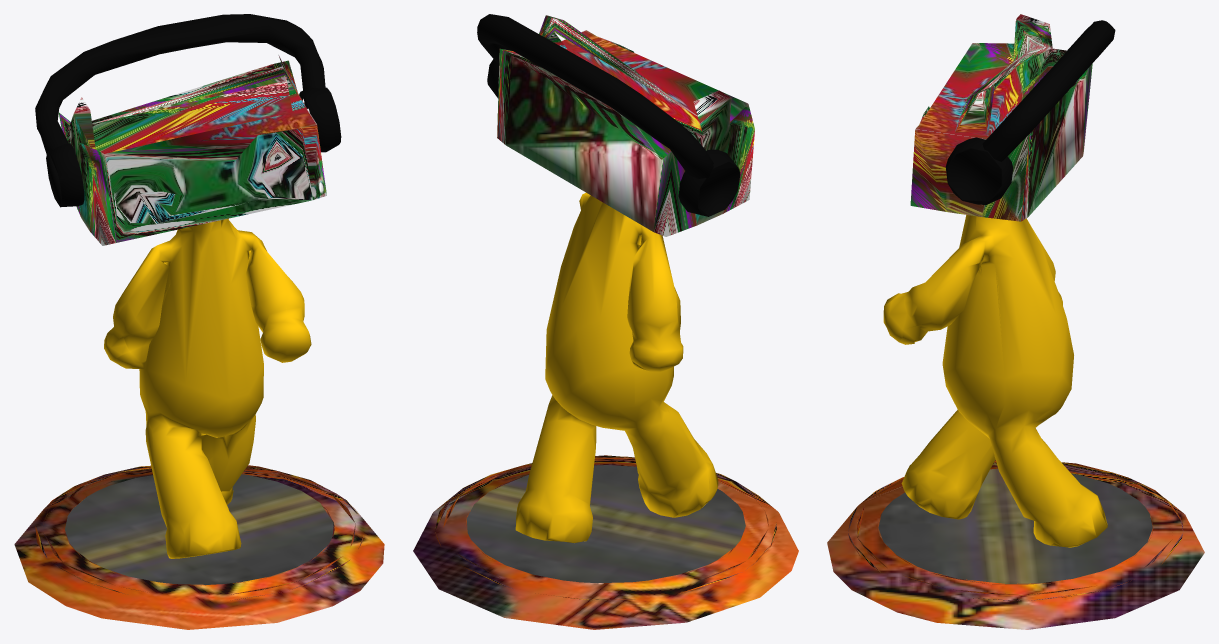
3 views of the same model, side by side, from view 1: azimuth 30°, elevation 25°; view 2: azimuth 150°, elevation 25°; view 3: azimuth 270°, elevation 25° (orthographic). The views are drawn at different scales.
Bounding box in the file's own units: 1.44 × 2.17 × 1.44.
Materials: 5 (3 with a texture image).
